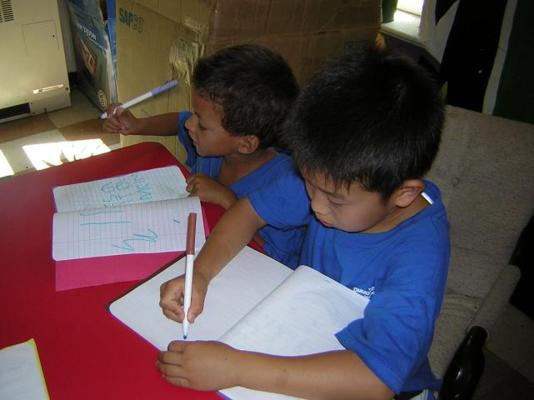person: (156, 49, 449, 400)
